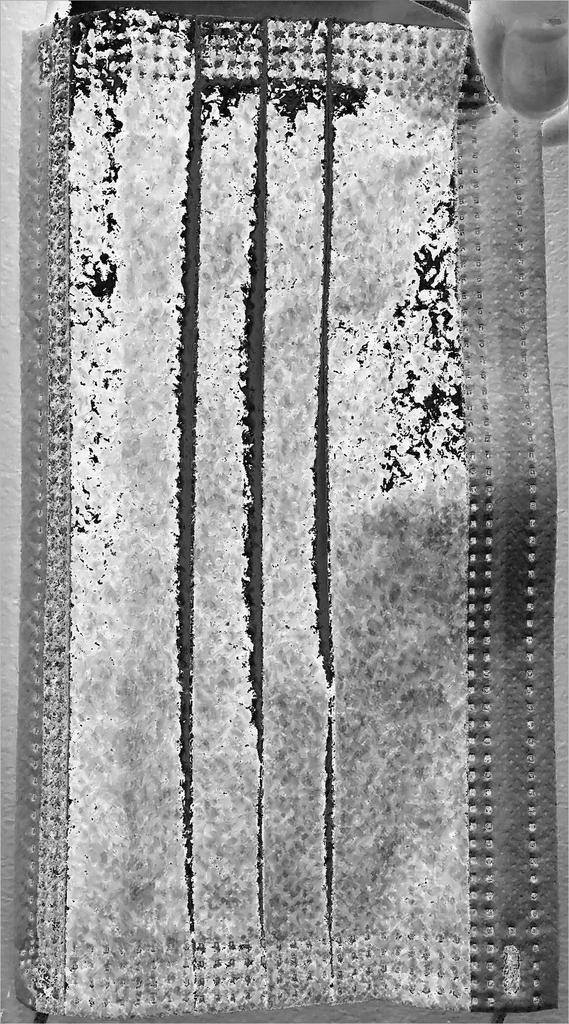High GSM: (67, 78, 472, 598)
